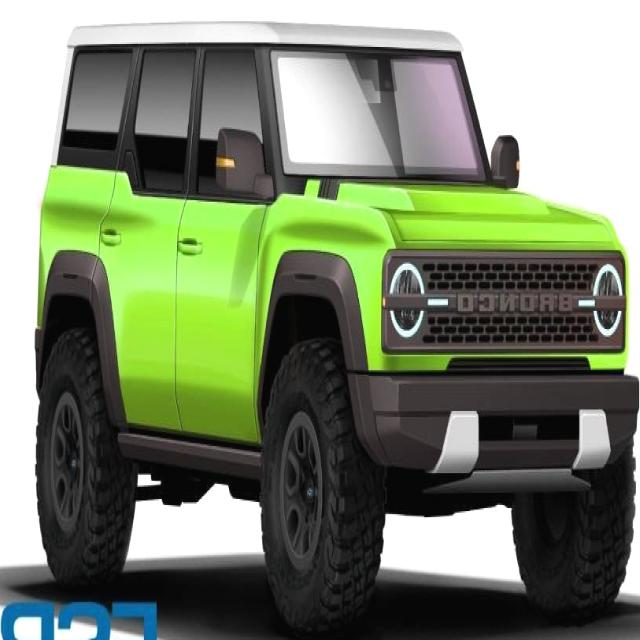green: (35, 24, 629, 610)
